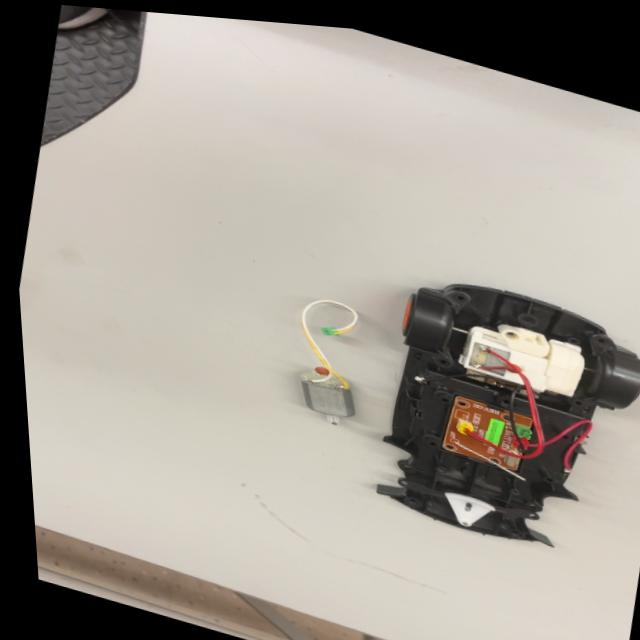Chassis: (350, 253, 640, 580)
motor: (284, 349, 371, 436)
